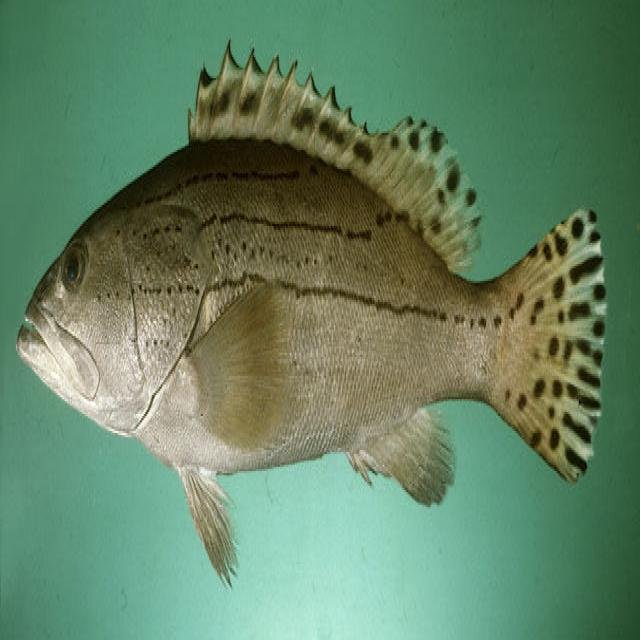ikan: (15, 36, 608, 589)
